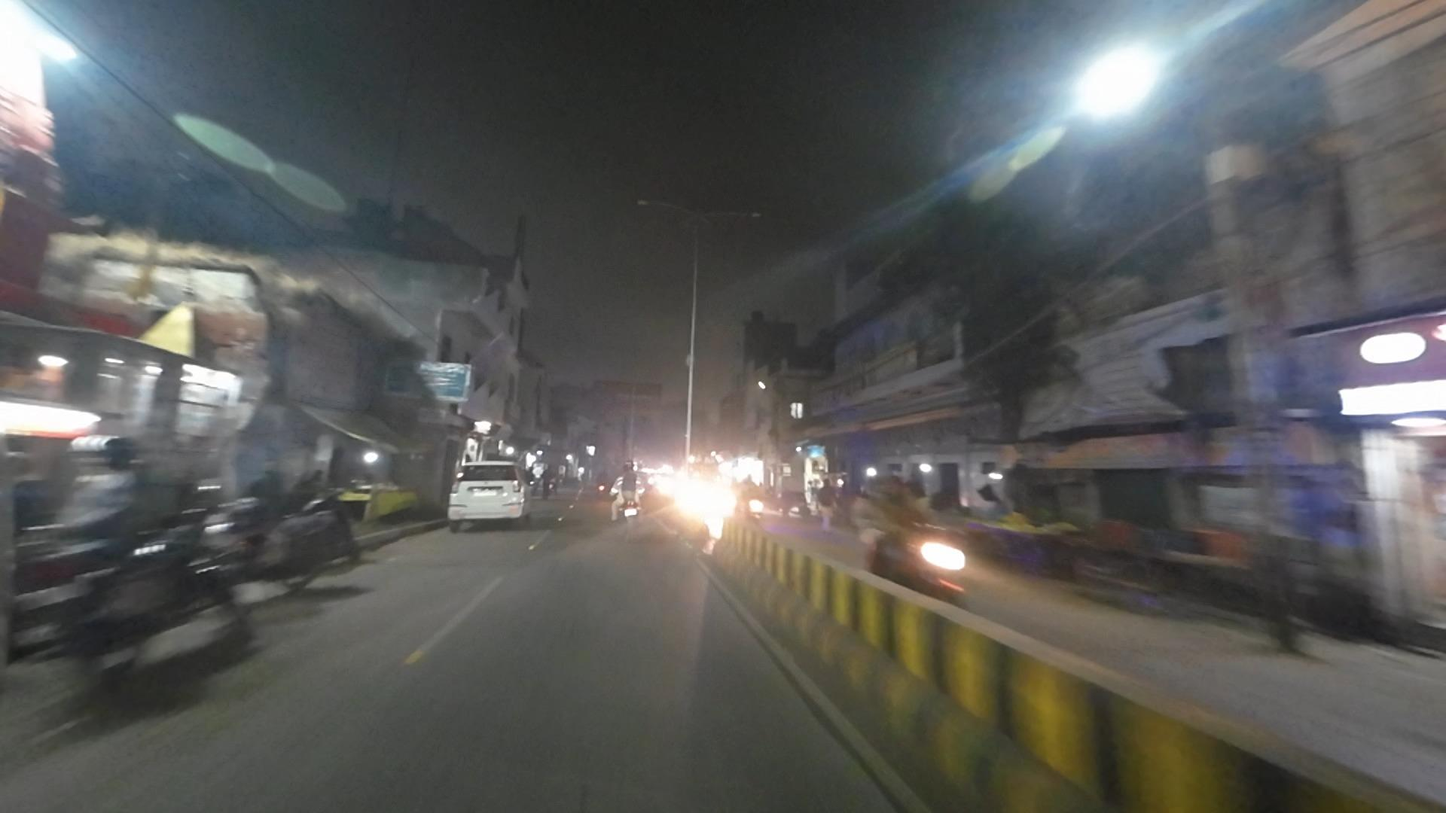streetlight: (635, 196, 691, 215), (704, 208, 764, 223)
